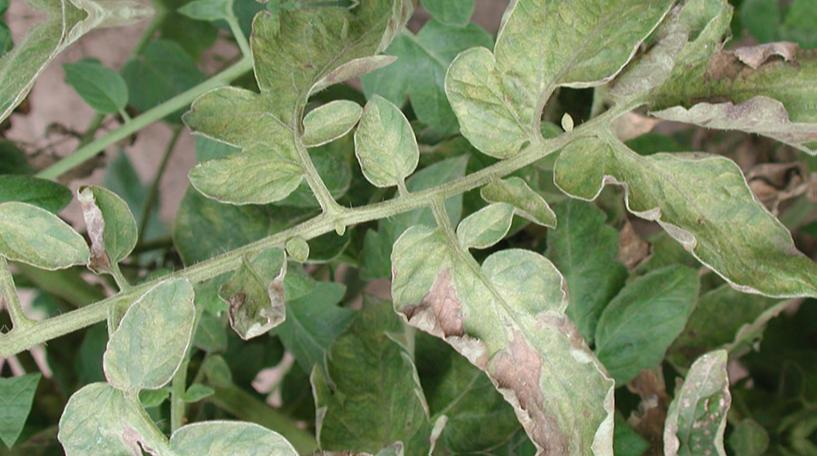Tomato mold leaf: (384, 213, 624, 456), (548, 123, 817, 324), (439, 0, 704, 168), (46, 379, 378, 456), (91, 266, 212, 395), (339, 90, 425, 194), (217, 240, 299, 343), (0, 188, 95, 271), (282, 94, 370, 151)
